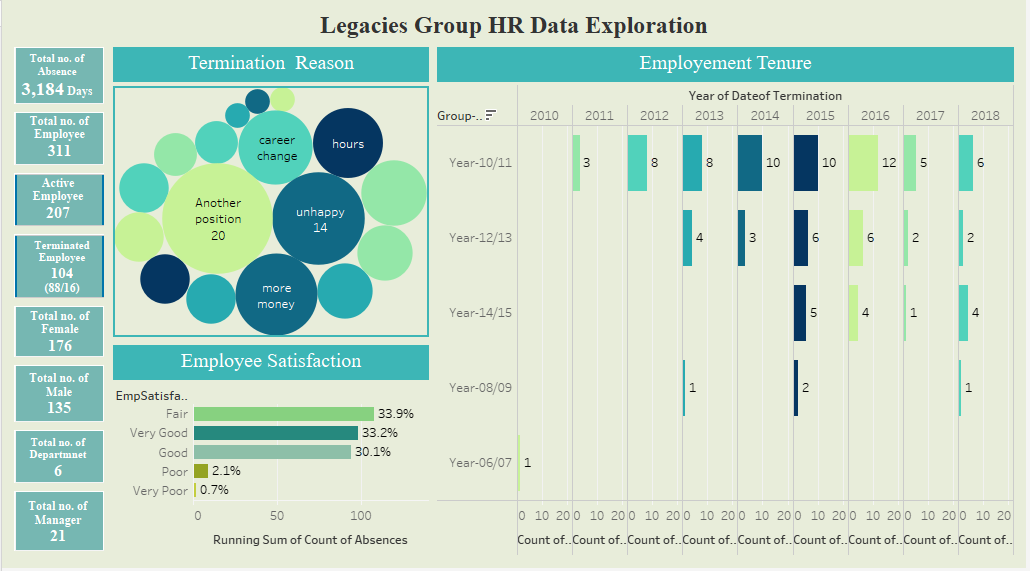

The dashboard page shown, as its layout file describes it:
{"tool":"tableau","page":{"name":"Legacies Group HR Data Exploration  ","canvas":[1024,568],"ordinal":2},"visuals":[{"type":"title","box":[8,8,1008,35]},{"type":"worksheet","title":"Total Absence","mark":"Square","rows":["Absences"],"box":[8,43,98,65]},{"type":"worksheet","title":"Termination  Reason","mark":"Circle","box":[106,43,325,298]},{"type":"worksheet","title":"Employement Tenure","mark":"Bar","rows":["Group-DateHire"],"cols":["DateofTermination","EmpID"],"box":[431,43,585,517]},{"type":"text","box":[16,49,78,55]},{"type":"worksheet","title":"Count Employee","mark":"Square","rows":["EmpID"],"box":[8,108,98,61]},{"type":"text","box":[17,113,81,48]},{"type":"worksheet","title":"Active Employee ","mark":"Square","rows":["EmploymentStatus"],"box":[8,169,98,61]},{"type":"text","box":[17,174,78,50]},{"type":"worksheet","title":"Voluntary Terminated Employee ","mark":"Square","rows":["EmploymentStatus"],"box":[8,230,98,72]},{"type":"text","box":[17,239,86,58]},{"type":"worksheet","title":"GenderF","mark":"Square","rows":["Sex"],"box":[8,302,98,59]},{"type":"text","box":[17,309,82,46]},{"type":"worksheet","title":"Employee Satisfaction","mark":"Automatic","rows":["EmpSatisfactionPoor"],"box":[106,341,325,219]},{"type":"worksheet","title":"GenderM","mark":"Square","rows":["Sex"],"box":[8,361,98,65]},{"type":"text","box":[16,371,82,47]},{"type":"worksheet","title":"Department","mark":"Square","rows":["Department"],"box":[8,426,98,61]},{"type":"text","box":[15,435,82,46]},{"type":"worksheet","title":"Manager","mark":"Square","rows":["ManagerName"],"box":[8,487,98,68]},{"type":"text","box":[14,496,84,53]}]}

Visuals, with their boxes in screenshot pixels (x1, y1, x2, y2), scaled from the page's 1024x568 canvas onto the 1030x571 screenshot:
title: [8, 8, 1022, 43]
"Total Absence" worksheet (Square marks): [8, 43, 107, 109]
"Termination  Reason" worksheet (Circle marks): [107, 43, 434, 343]
"Employement Tenure" worksheet (Bar marks): [434, 43, 1022, 563]
text: [16, 49, 95, 105]
"Count Employee" worksheet (Square marks): [8, 109, 107, 170]
text: [17, 114, 99, 162]
"Active Employee " worksheet (Square marks): [8, 170, 107, 231]
text: [17, 175, 96, 225]
"Voluntary Terminated Employee " worksheet (Square marks): [8, 231, 107, 304]
text: [17, 240, 104, 299]
"GenderF" worksheet (Square marks): [8, 304, 107, 363]
text: [17, 311, 100, 357]
"Employee Satisfaction" worksheet: [107, 343, 434, 563]
"GenderM" worksheet (Square marks): [8, 363, 107, 428]
text: [16, 373, 99, 420]
"Department" worksheet (Square marks): [8, 428, 107, 490]
text: [15, 437, 98, 484]
"Manager" worksheet (Square marks): [8, 490, 107, 558]
text: [14, 499, 99, 552]
